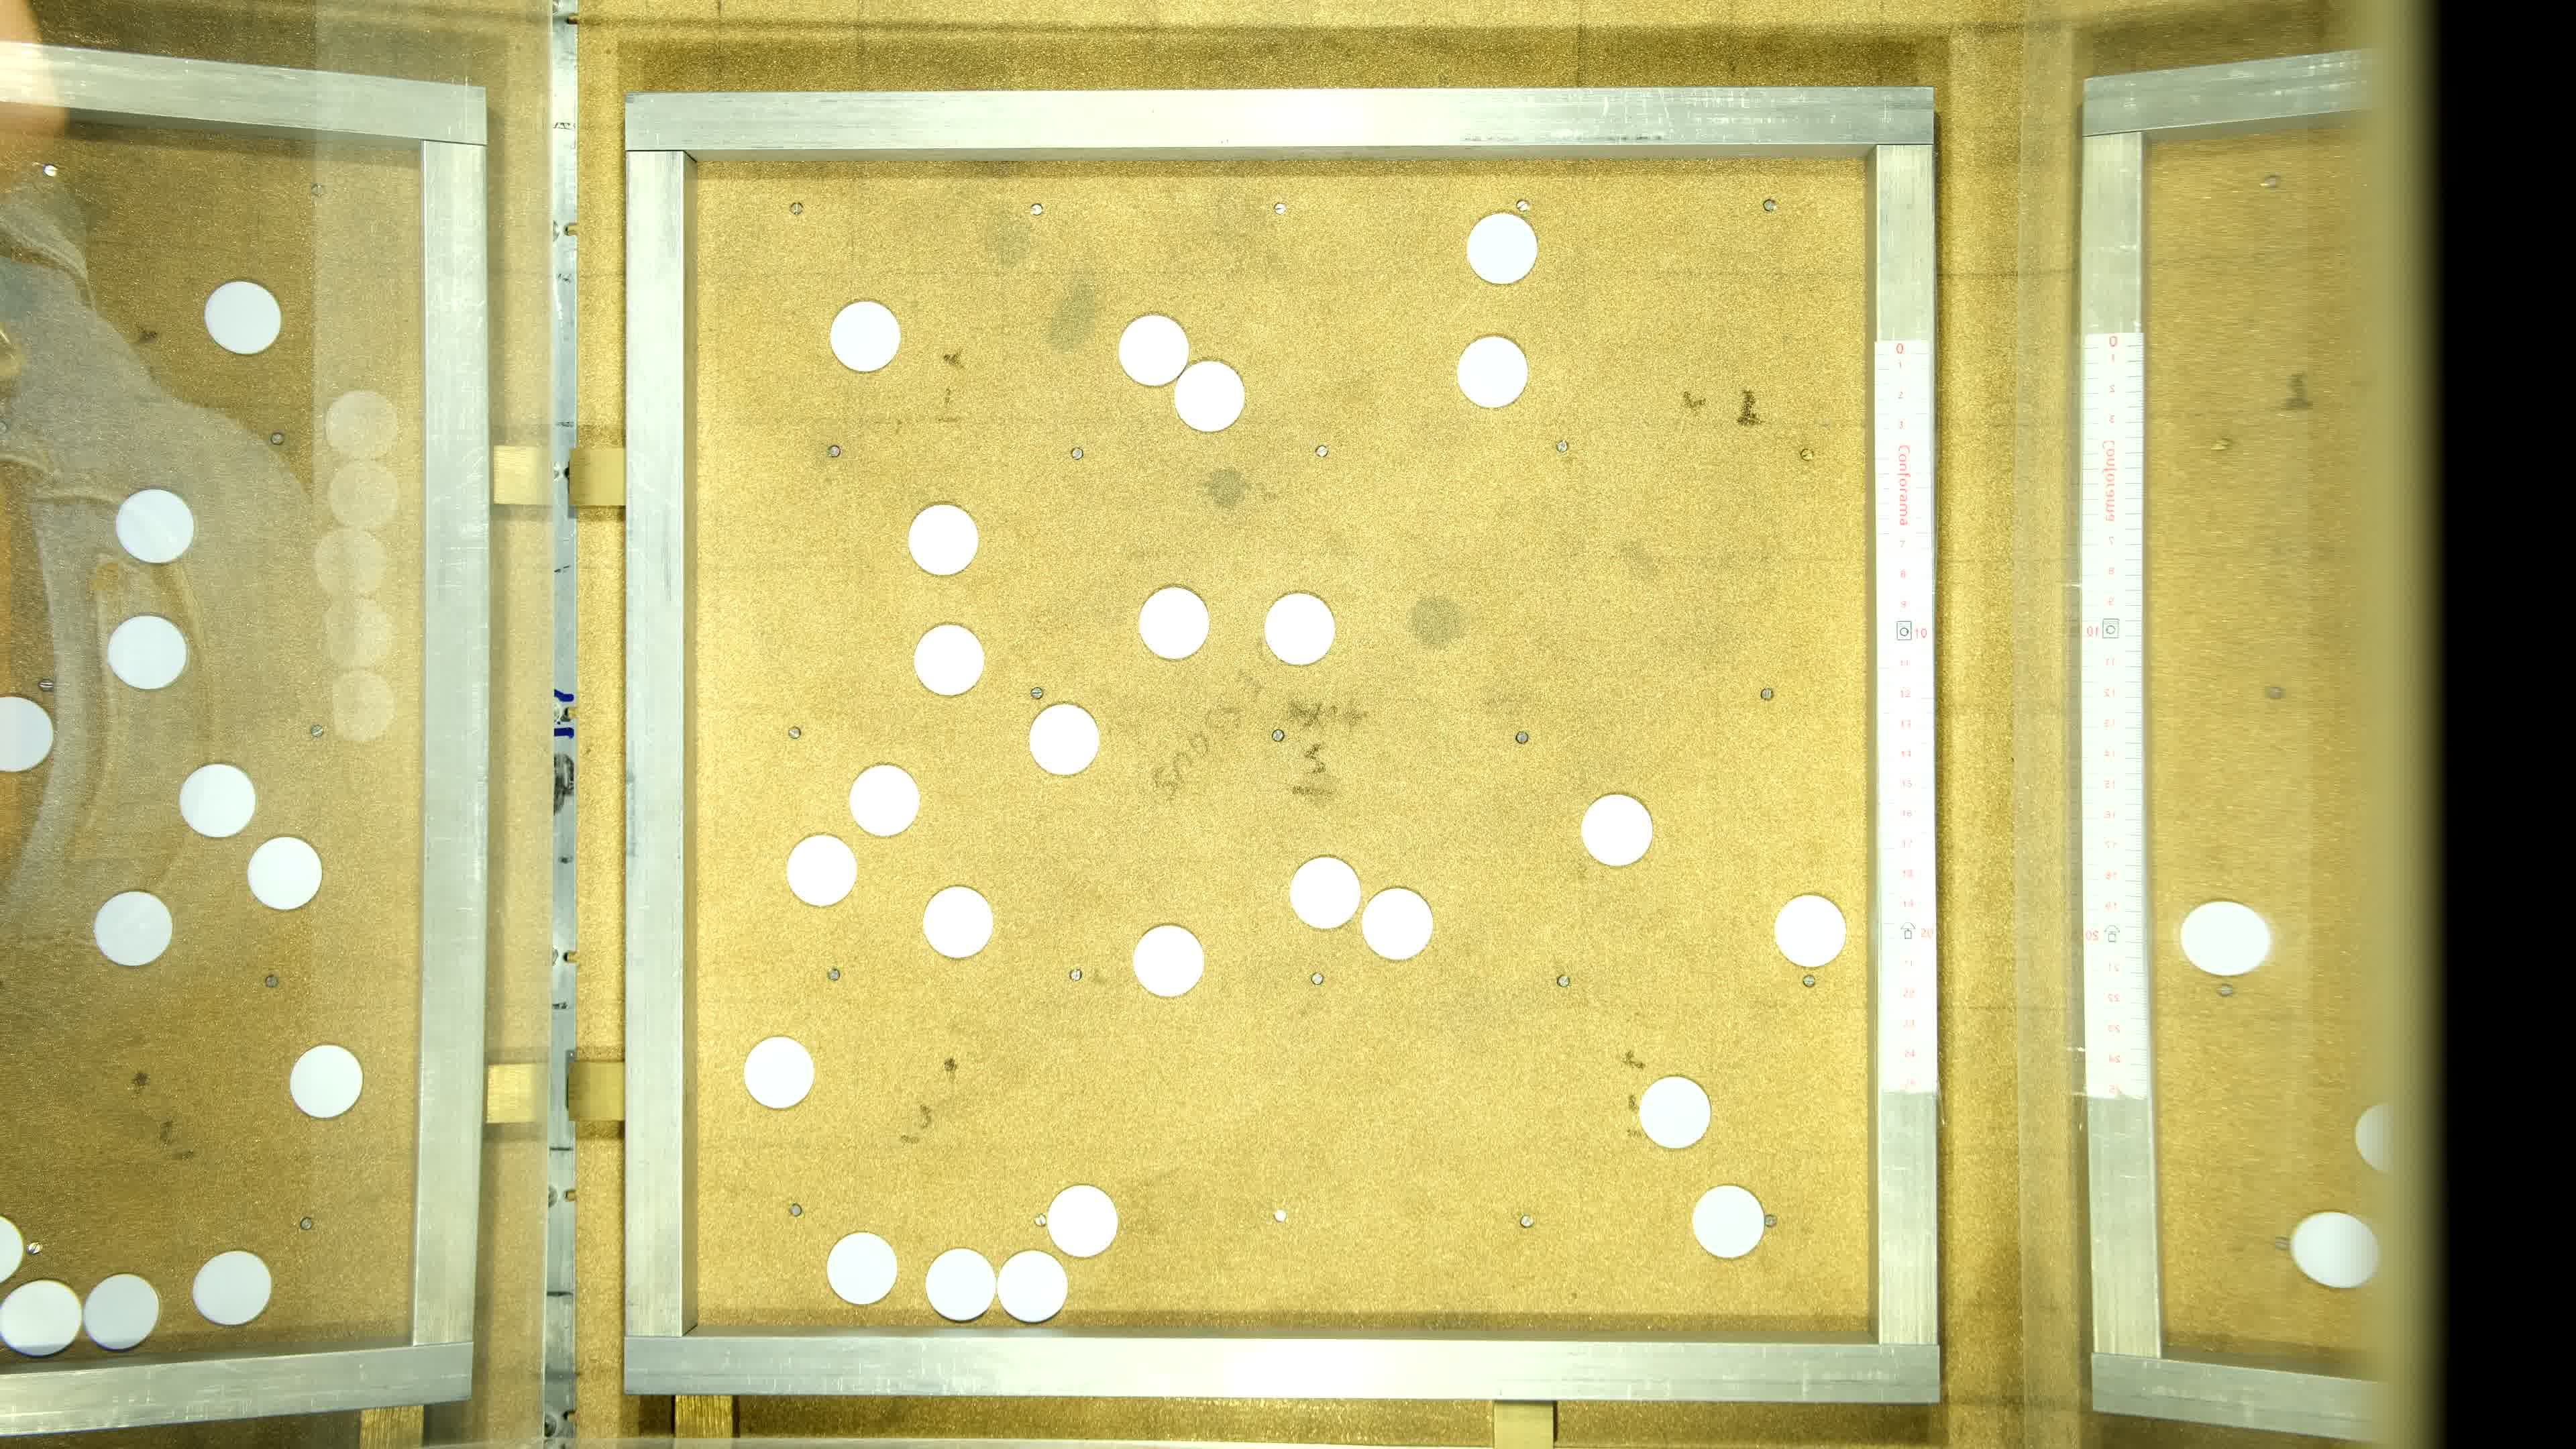pallet: (908, 626, 989, 699), (786, 835, 867, 908), (844, 763, 925, 835), (1281, 855, 1362, 927), (1127, 925, 1208, 998), (740, 1035, 821, 1108), (1769, 897, 1851, 970), (1571, 796, 1652, 869), (1042, 1182, 1123, 1254), (916, 886, 996, 959), (1355, 886, 1435, 959), (1633, 1079, 1713, 1152), (1028, 702, 1108, 775), (824, 1233, 904, 1306), (922, 1246, 1001, 1318), (1000, 1254, 1079, 1327), (1691, 1187, 1771, 1260), (826, 301, 904, 372), (904, 502, 978, 573), (1141, 591, 1219, 658), (1118, 313, 1191, 384), (1175, 361, 1246, 433), (1467, 214, 1537, 287), (1460, 336, 1530, 409), (1269, 593, 1338, 665)
